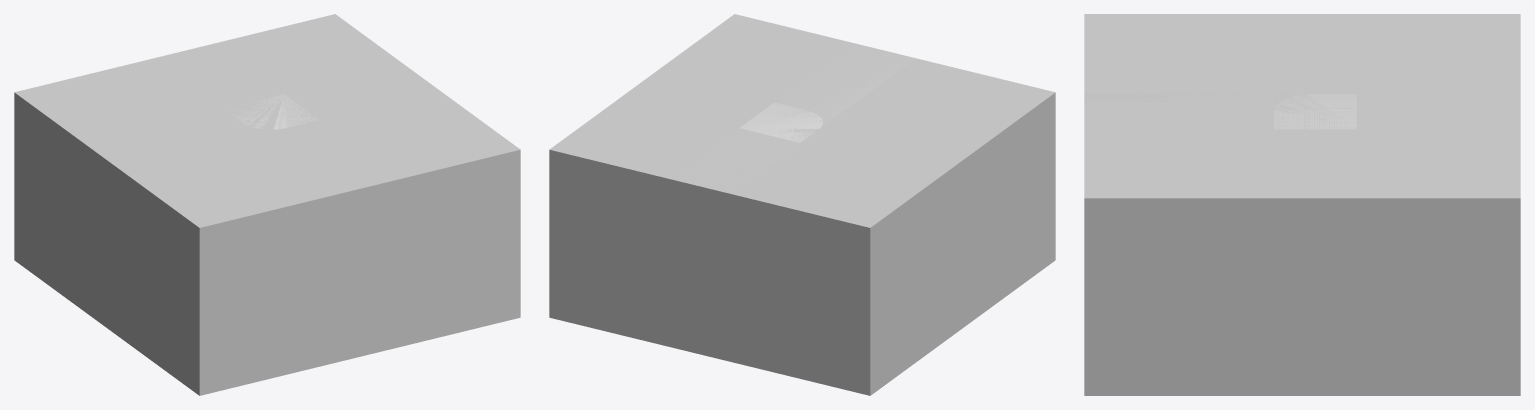
Rendered from Platforms.fbx.
The picture shows the model from 3 angles, left to right: view 1: azimuth 30°, elevation 25°; view 2: azimuth 150°, elevation 25°; view 3: azimuth 270°, elevation 25°; orthographic projection. The views are drawn at different scales.
Visible parts, largest first — view 1: Platform_Inner, Platform_Side.001, Platform_Corner; view 2: Platform_Inner, Platform_Side.001, Platform_Corner; view 3: Platform_Inner, Platform_Corner, Platform_Side.001.
Part boxes in pixels (x1,y1,x2,y2): Platform_Inner: [14, 14, 520, 395]; Platform_Side.001: [154, 44, 400, 366]; Platform_Corner: [230, 94, 317, 129]; Platform_Inner: [549, 14, 1055, 395]; Platform_Side.001: [669, 44, 914, 366]; Platform_Corner: [739, 102, 822, 142]; Platform_Inner: [1084, 14, 1520, 395]; Platform_Corner: [1274, 94, 1356, 129]; Platform_Side.001: [1084, 94, 1519, 127].
Bounding box in the file's own units: 100 × 50 × 100.
